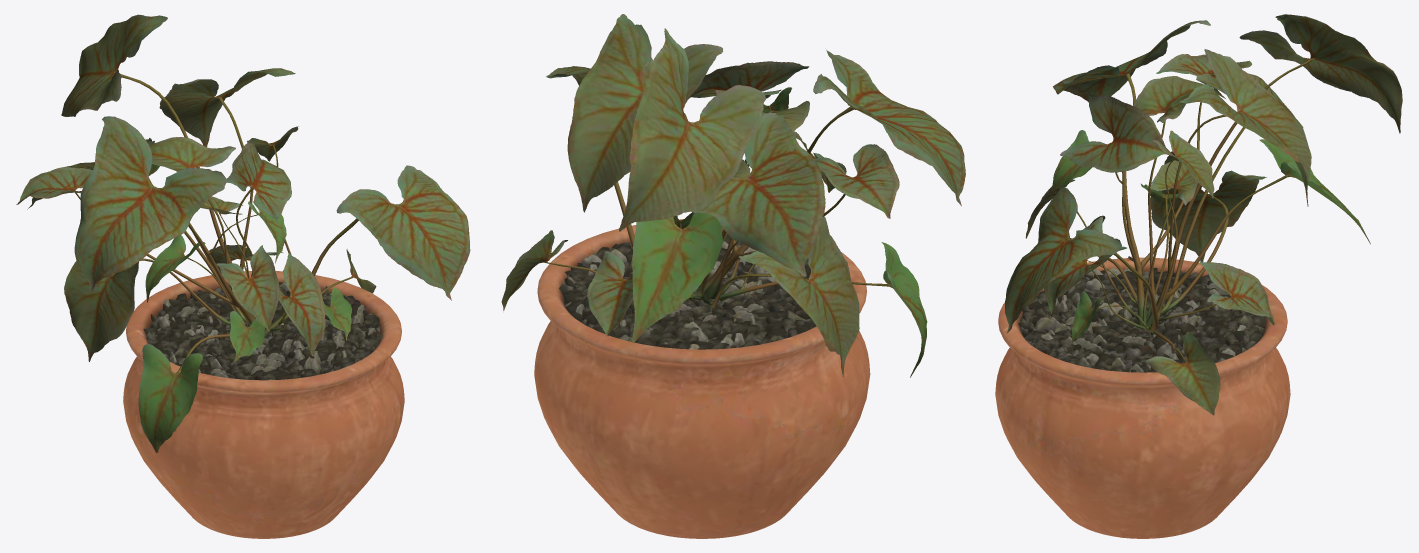
File: house-plant.glb
The picture shows the model from 3 angles, left to right: view 1: azimuth 30°, elevation 25°; view 2: azimuth 150°, elevation 25°; view 3: azimuth 270°, elevation 25°; orthographic projection. The views are drawn at different scales.
Parts seen in each view (by area): view 1: leaves, pot; view 2: leaves, pot; view 3: pot, leaves.
Part boxes in pixels (x1=…): leaves: x1=16, y1=14, x2=470, y2=452; pot: x1=123, y1=271, x2=404, y2=538; leaves: x1=501, y1=14, x2=965, y2=377; pot: x1=534, y1=219, x2=870, y2=538; pot: x1=995, y1=257, x2=1290, y2=538; leaves: x1=1005, y1=14, x2=1402, y2=415.
Bounding box in the file's own units: 0.7012 × 0.8412 × 0.6574.
Materials: 3 (3 with a texture image).
